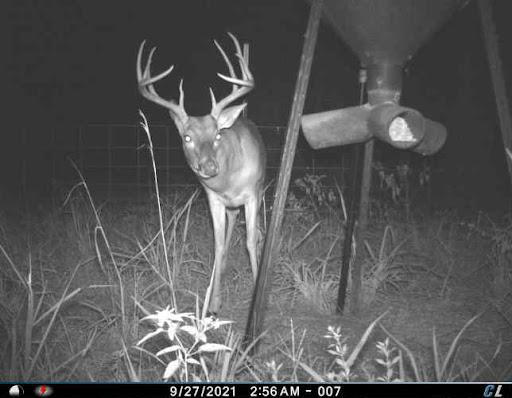Deer: (132, 28, 272, 327)
